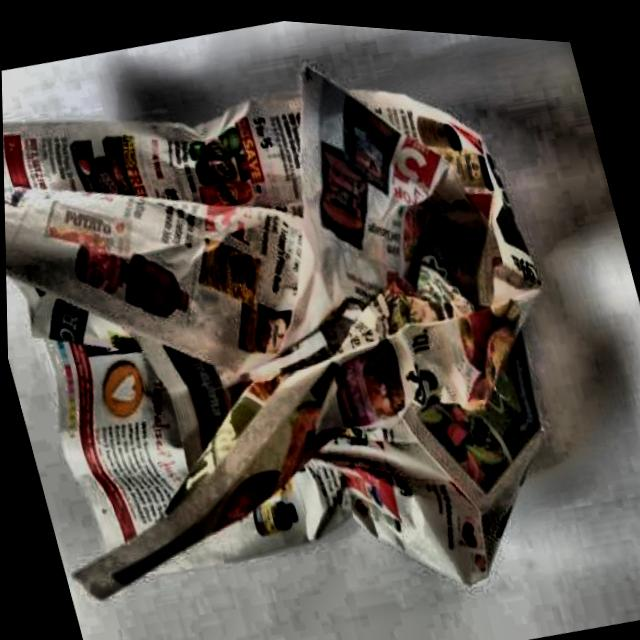Paper: (0, 0, 612, 640)
